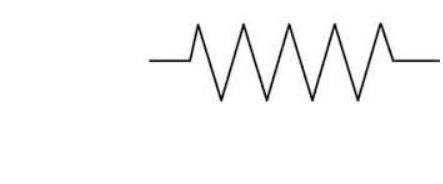resistor: (181, 16, 403, 105)
